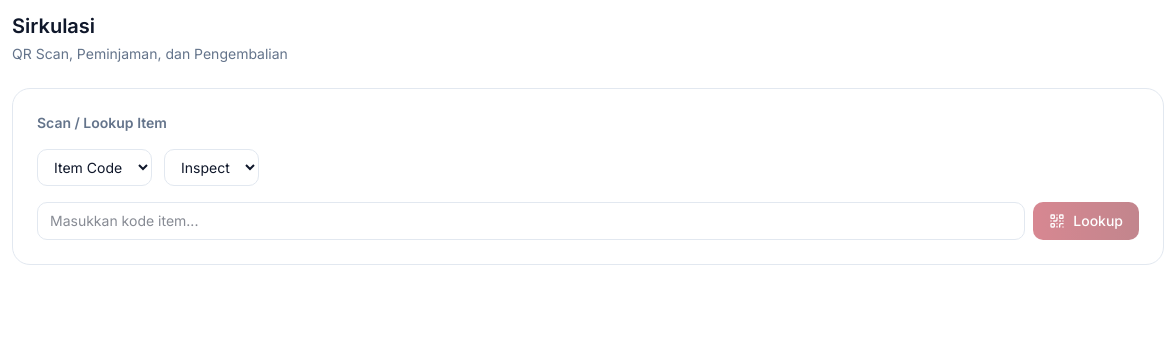
Test case: CirculationSection › shows error on failed lookup
In the field with placeholder "Masukkan kode item...": [531, 221] box [37,202,1025,240], type "INVALID"
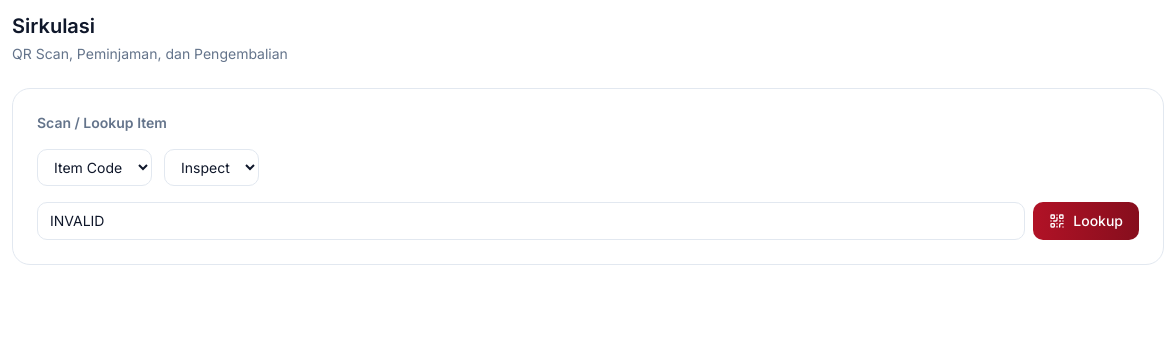
Click the button "Lookup": [1086, 221] box [1033,202,1139,240]
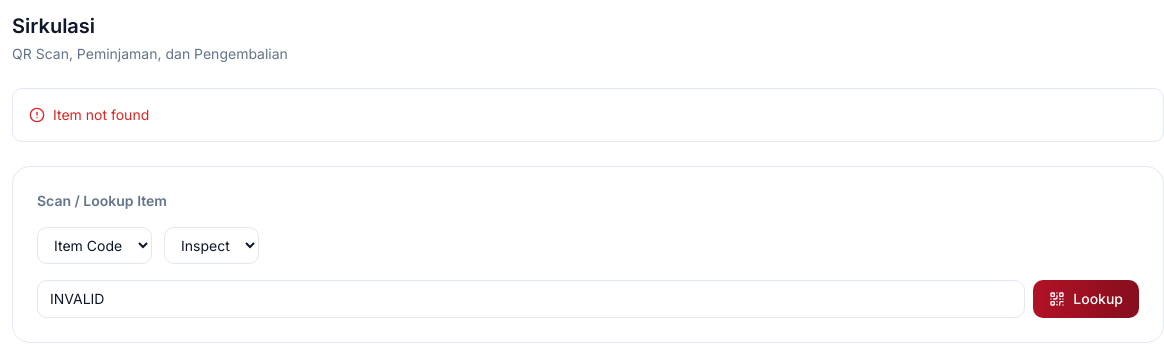
Check: the text "Item not found" is shown, box [53,105,149,125]
